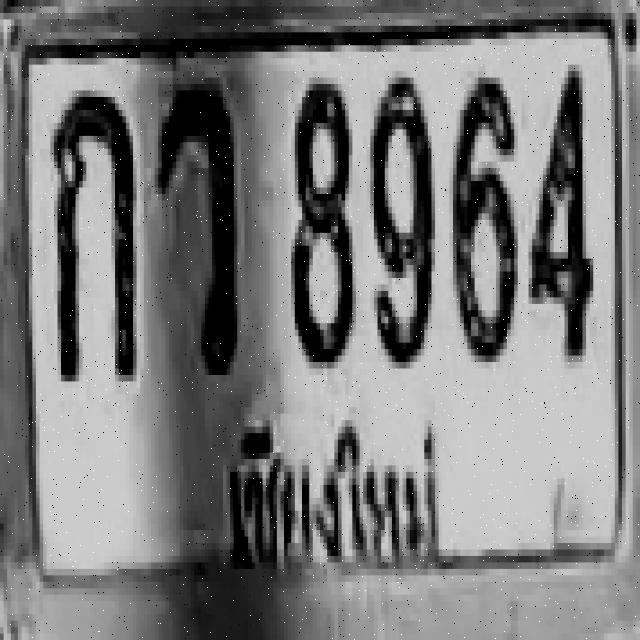10GorGai: (51, 87, 132, 378)
4: (528, 61, 590, 359)
46WorWaen: (154, 78, 233, 368)
6: (450, 72, 518, 356)
8: (288, 78, 352, 362)
9: (369, 71, 433, 362)
ChiangMai: (203, 396, 459, 608)
